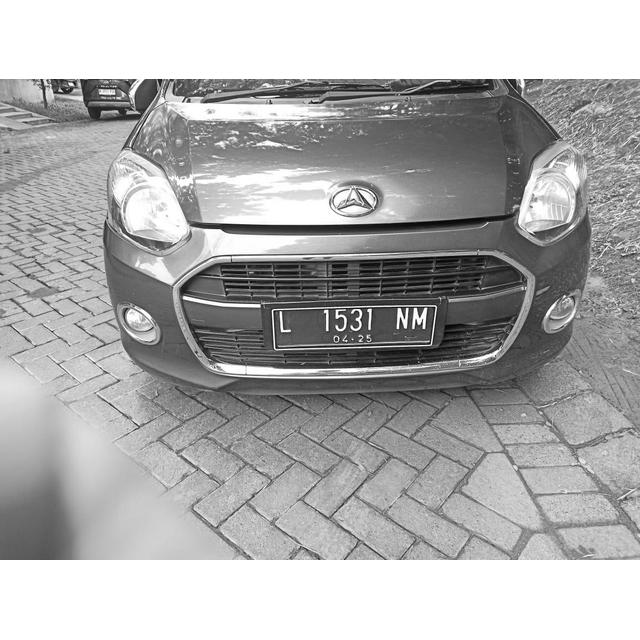license: (276, 305, 429, 344)
